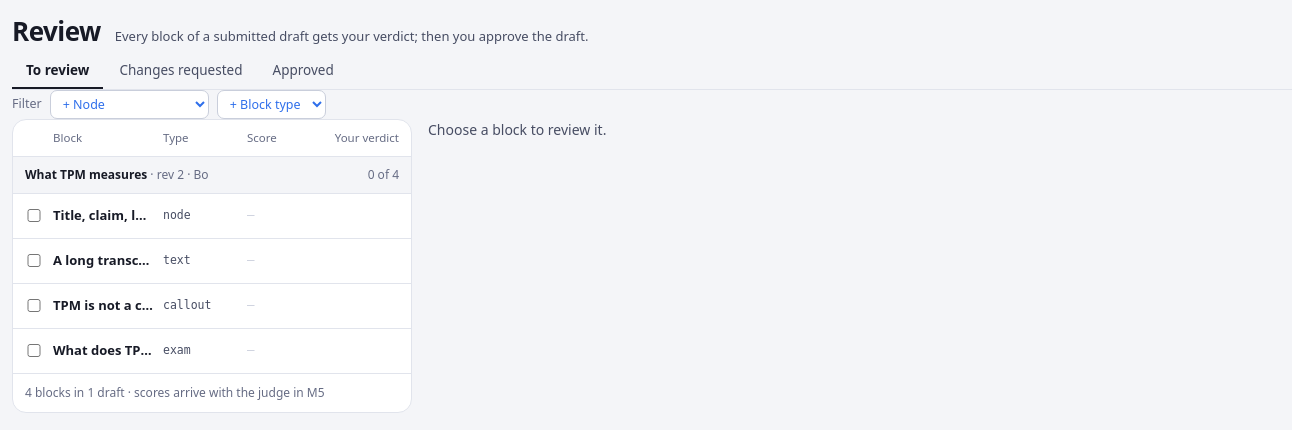
Test: ReviewPage — the queue › filters by block type
The width and height of the screenshot is (1292, 430).
Check: the text "What TPM measures" is shown, box 25,166 -> 147,182
Step 1. Select "callout" in the dropdown named "Block type" → (271, 105), box 217,90 -> 326,119
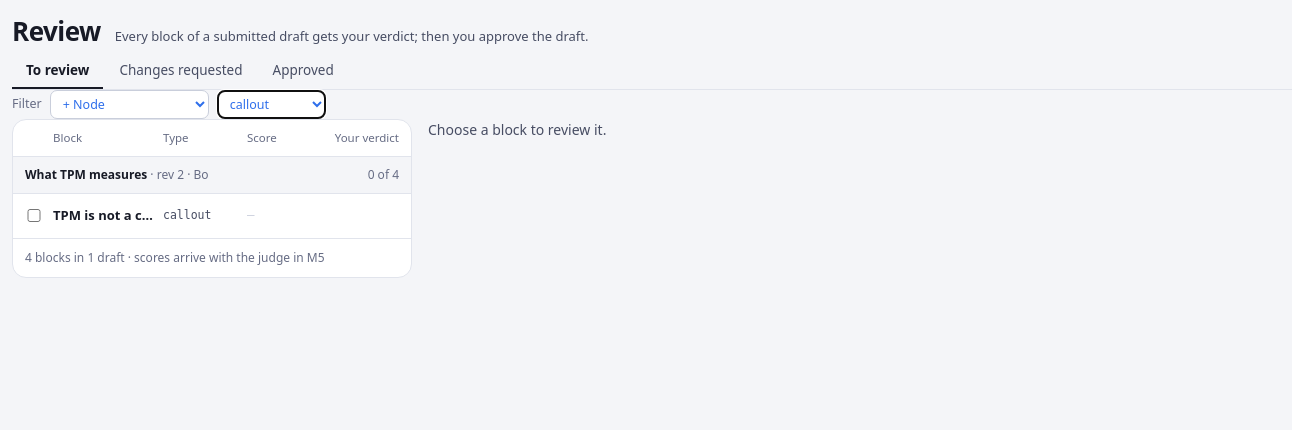
Check: the button "TPM is not a count of reads" is shown, box 53,194 -> 153,238
Check: the button "Title, claim, level, links" is gone
